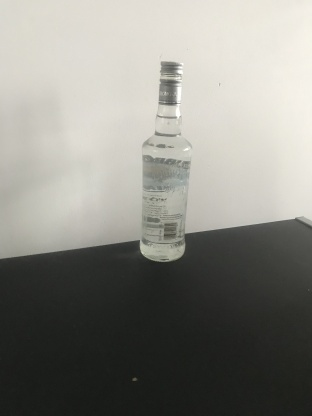nakretka: (157, 59, 184, 105)
